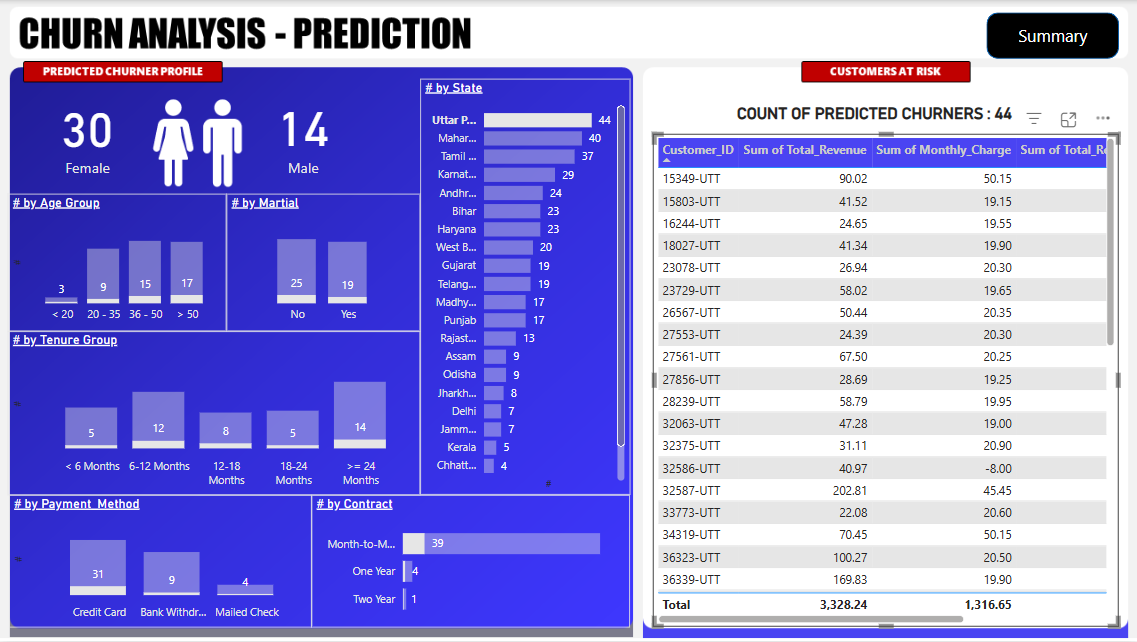

Layout of this report page (visuals, bound fields, positions):
{"tool":"powerbi","page":{"name":"Churn Prediction","canvas":[1280,720],"ordinal":2},"visuals":[{"type":"tableEx","fields":{"Values":["Predictions.Customer_ID","Sum(Predictions.Total_Revenue)","Sum(Predictions.Monthly_Charge)","Sum(Predictions.Total_Refunds)","Sum(Predictions.Number_of_Referrals)"]},"box":[734.2,150.2,523.6,554.5],"z":0},{"type":"card","fields":{"Values":["tbl_measures.Title Predicted Churners"]},"box":[708.9,105.3,548.9,44.9],"z":1000},{"type":"card","fields":{"Values":["tbl_measures.Count Predicted Churner"]},"box":[18.2,88.4,162.8,123.5],"z":1001},{"type":"card","fields":{"Values":["tbl_measures.Count Predicted Churner"]},"box":[255.5,92.7,172.7,113.7],"z":1002},{"type":"clusteredColumnChart","fields":{"Category":["mapping_AgeGrp.Age Group "],"Y":["CountNonNull(Predictions.Customer_ID)"]},"box":[9.8,217.6,245.7,154.4],"z":1003},{"type":"clusteredColumnChart","fields":{"Category":["mapping_TenureGrp.Tenure Group "],"Y":["CountNonNull(Predictions.Customer_ID)"]},"box":[9.8,372,463.3,183.9],"z":1004},{"type":"clusteredColumnChart","fields":{"Category":["Predictions.Married"],"Y":["CountNonNull(Predictions.Customer_ID)"]},"box":[255.5,217.6,217.6,154.4],"z":1005},{"type":"clusteredColumnChart","fields":{"Category":["Predictions.Payment_Method"],"Y":["CountNonNull(Predictions.Customer_ID)"]},"box":[11.2,555.9,339.7,148.8],"z":1006},{"type":"clusteredBarChart","fields":{"Category":["Predictions.Contract"],"Y":["CountNonNull(Predictions.Customer_ID)"]},"box":[351,555.9,358,148.8],"z":1007},{"type":"clusteredBarChart","fields":{"Category":["Predictions.State"],"Y":["CountNonNull(Predictions.Customer_ID)"]},"box":[473.1,88.4,235.8,467.5],"z":1008},{"type":"image","box":[151.6,92.7,141.8,134.8],"z":1009},{"type":"shape","box":[1109,14,148.8,51.9],"z":1010}]}

Visuals, with their boxes in screenshot pixels (x1, y1, x2, y2), scaled from the page's 1280x720 canvas onto the 1137x642 screenshot:
tableEx - Predictions.Customer_ID x Sum(Predictions.Total_Revenue): bbox(652, 134, 1117, 628)
card - tbl_measures.Title Predicted Churners: bbox(630, 94, 1117, 134)
card - tbl_measures.Count Predicted Churner: bbox(16, 79, 161, 189)
card - tbl_measures.Count Predicted Churner: bbox(227, 83, 380, 184)
clusteredColumnChart - mapping_AgeGrp.Age Group  x CountNonNull(Predictions.Customer_ID): bbox(9, 194, 227, 332)
clusteredColumnChart - mapping_TenureGrp.Tenure Group  x CountNonNull(Predictions.Customer_ID): bbox(9, 332, 420, 496)
clusteredColumnChart - Predictions.Married x CountNonNull(Predictions.Customer_ID): bbox(227, 194, 420, 332)
clusteredColumnChart - Predictions.Payment_Method x CountNonNull(Predictions.Customer_ID): bbox(10, 496, 312, 628)
clusteredBarChart - Predictions.Contract x CountNonNull(Predictions.Customer_ID): bbox(312, 496, 630, 628)
clusteredBarChart - Predictions.State x CountNonNull(Predictions.Customer_ID): bbox(420, 79, 630, 496)
image: bbox(135, 83, 261, 203)
shape: bbox(985, 12, 1117, 59)
